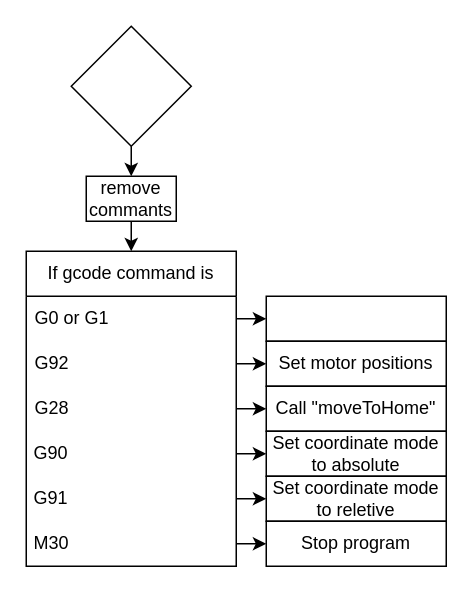
This 473x593 diagram has some shape labels left out. Each missing label, with the centre of its shape:
"executeGCline" called: [130,85]
Call "moveTo": [355,318]
